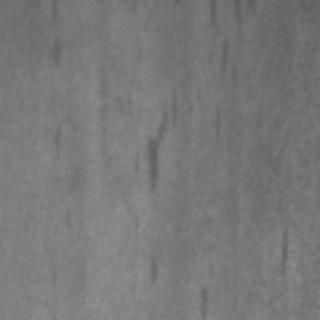inclusion: (200, 0, 250, 156), (118, 91, 182, 195), (264, 218, 300, 282), (43, 117, 67, 165), (43, 32, 65, 72)
